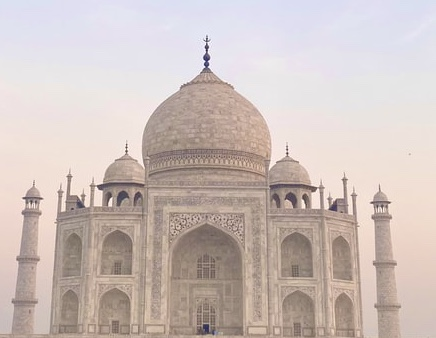Mosque: (3, 43, 407, 332)
